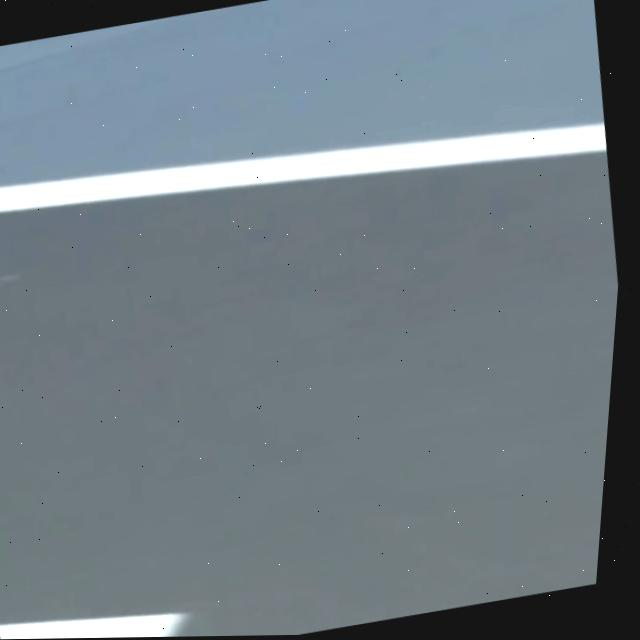center: (0, 613, 186, 639)
left: (0, 122, 607, 213)
